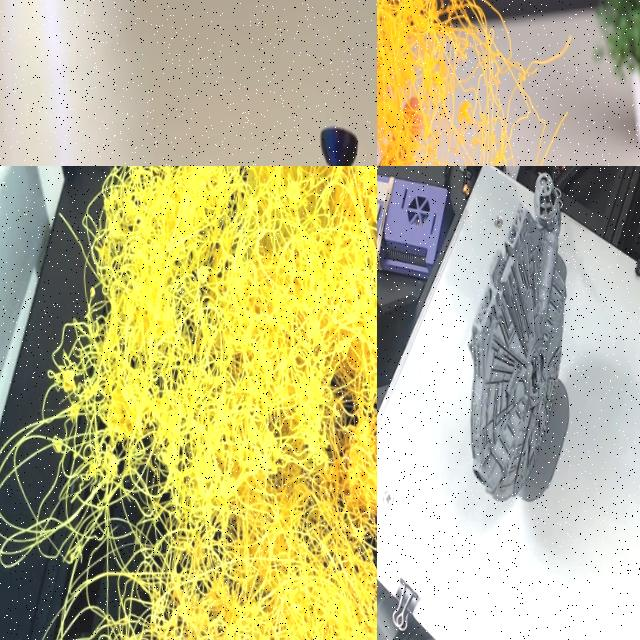spaghetti: (0, 166, 377, 640), (377, 0, 565, 166)
